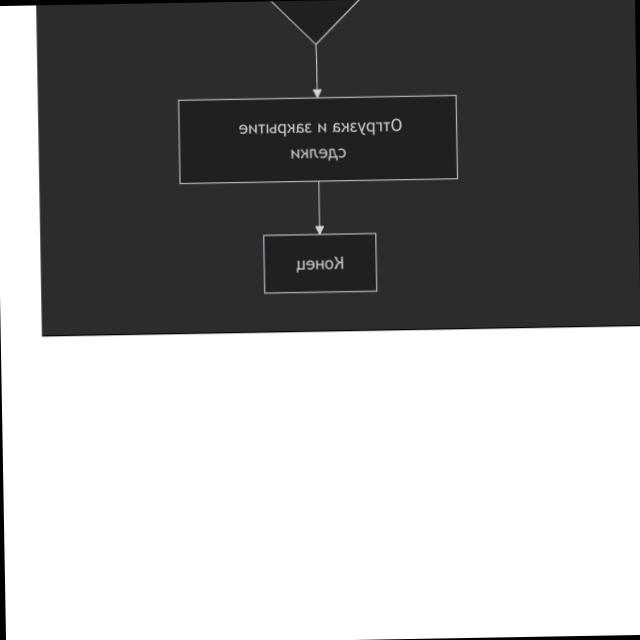arrow: (315, 182, 323, 234), (312, 45, 320, 97)
rectangle: (178, 95, 457, 184), (263, 234, 376, 293)
